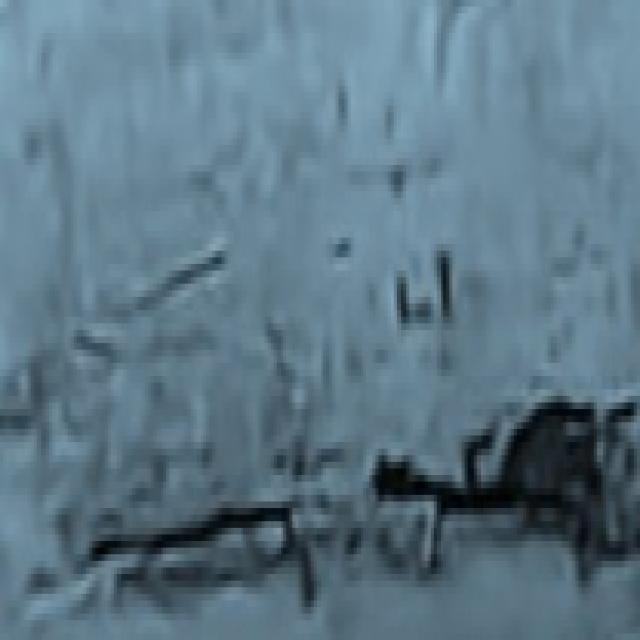crack: (395, 364, 604, 562), (96, 437, 315, 575)
